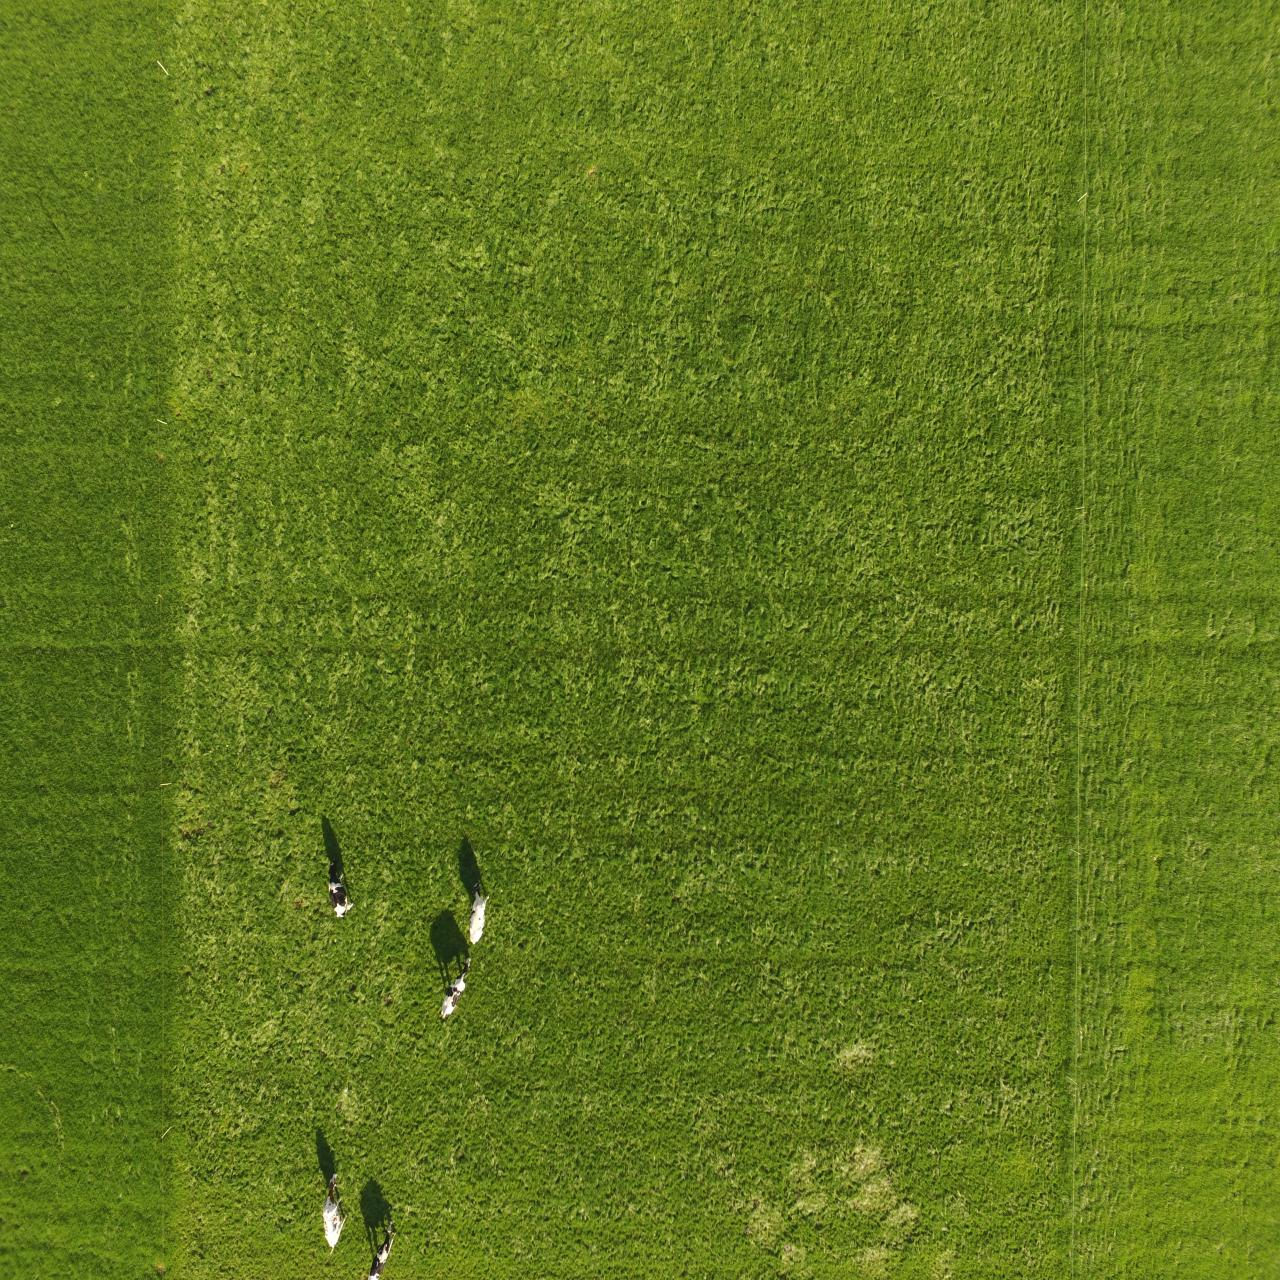cow: (318, 1160, 348, 1265), (434, 955, 478, 1024), (456, 878, 491, 951), (322, 853, 354, 922), (367, 1211, 396, 1279)
